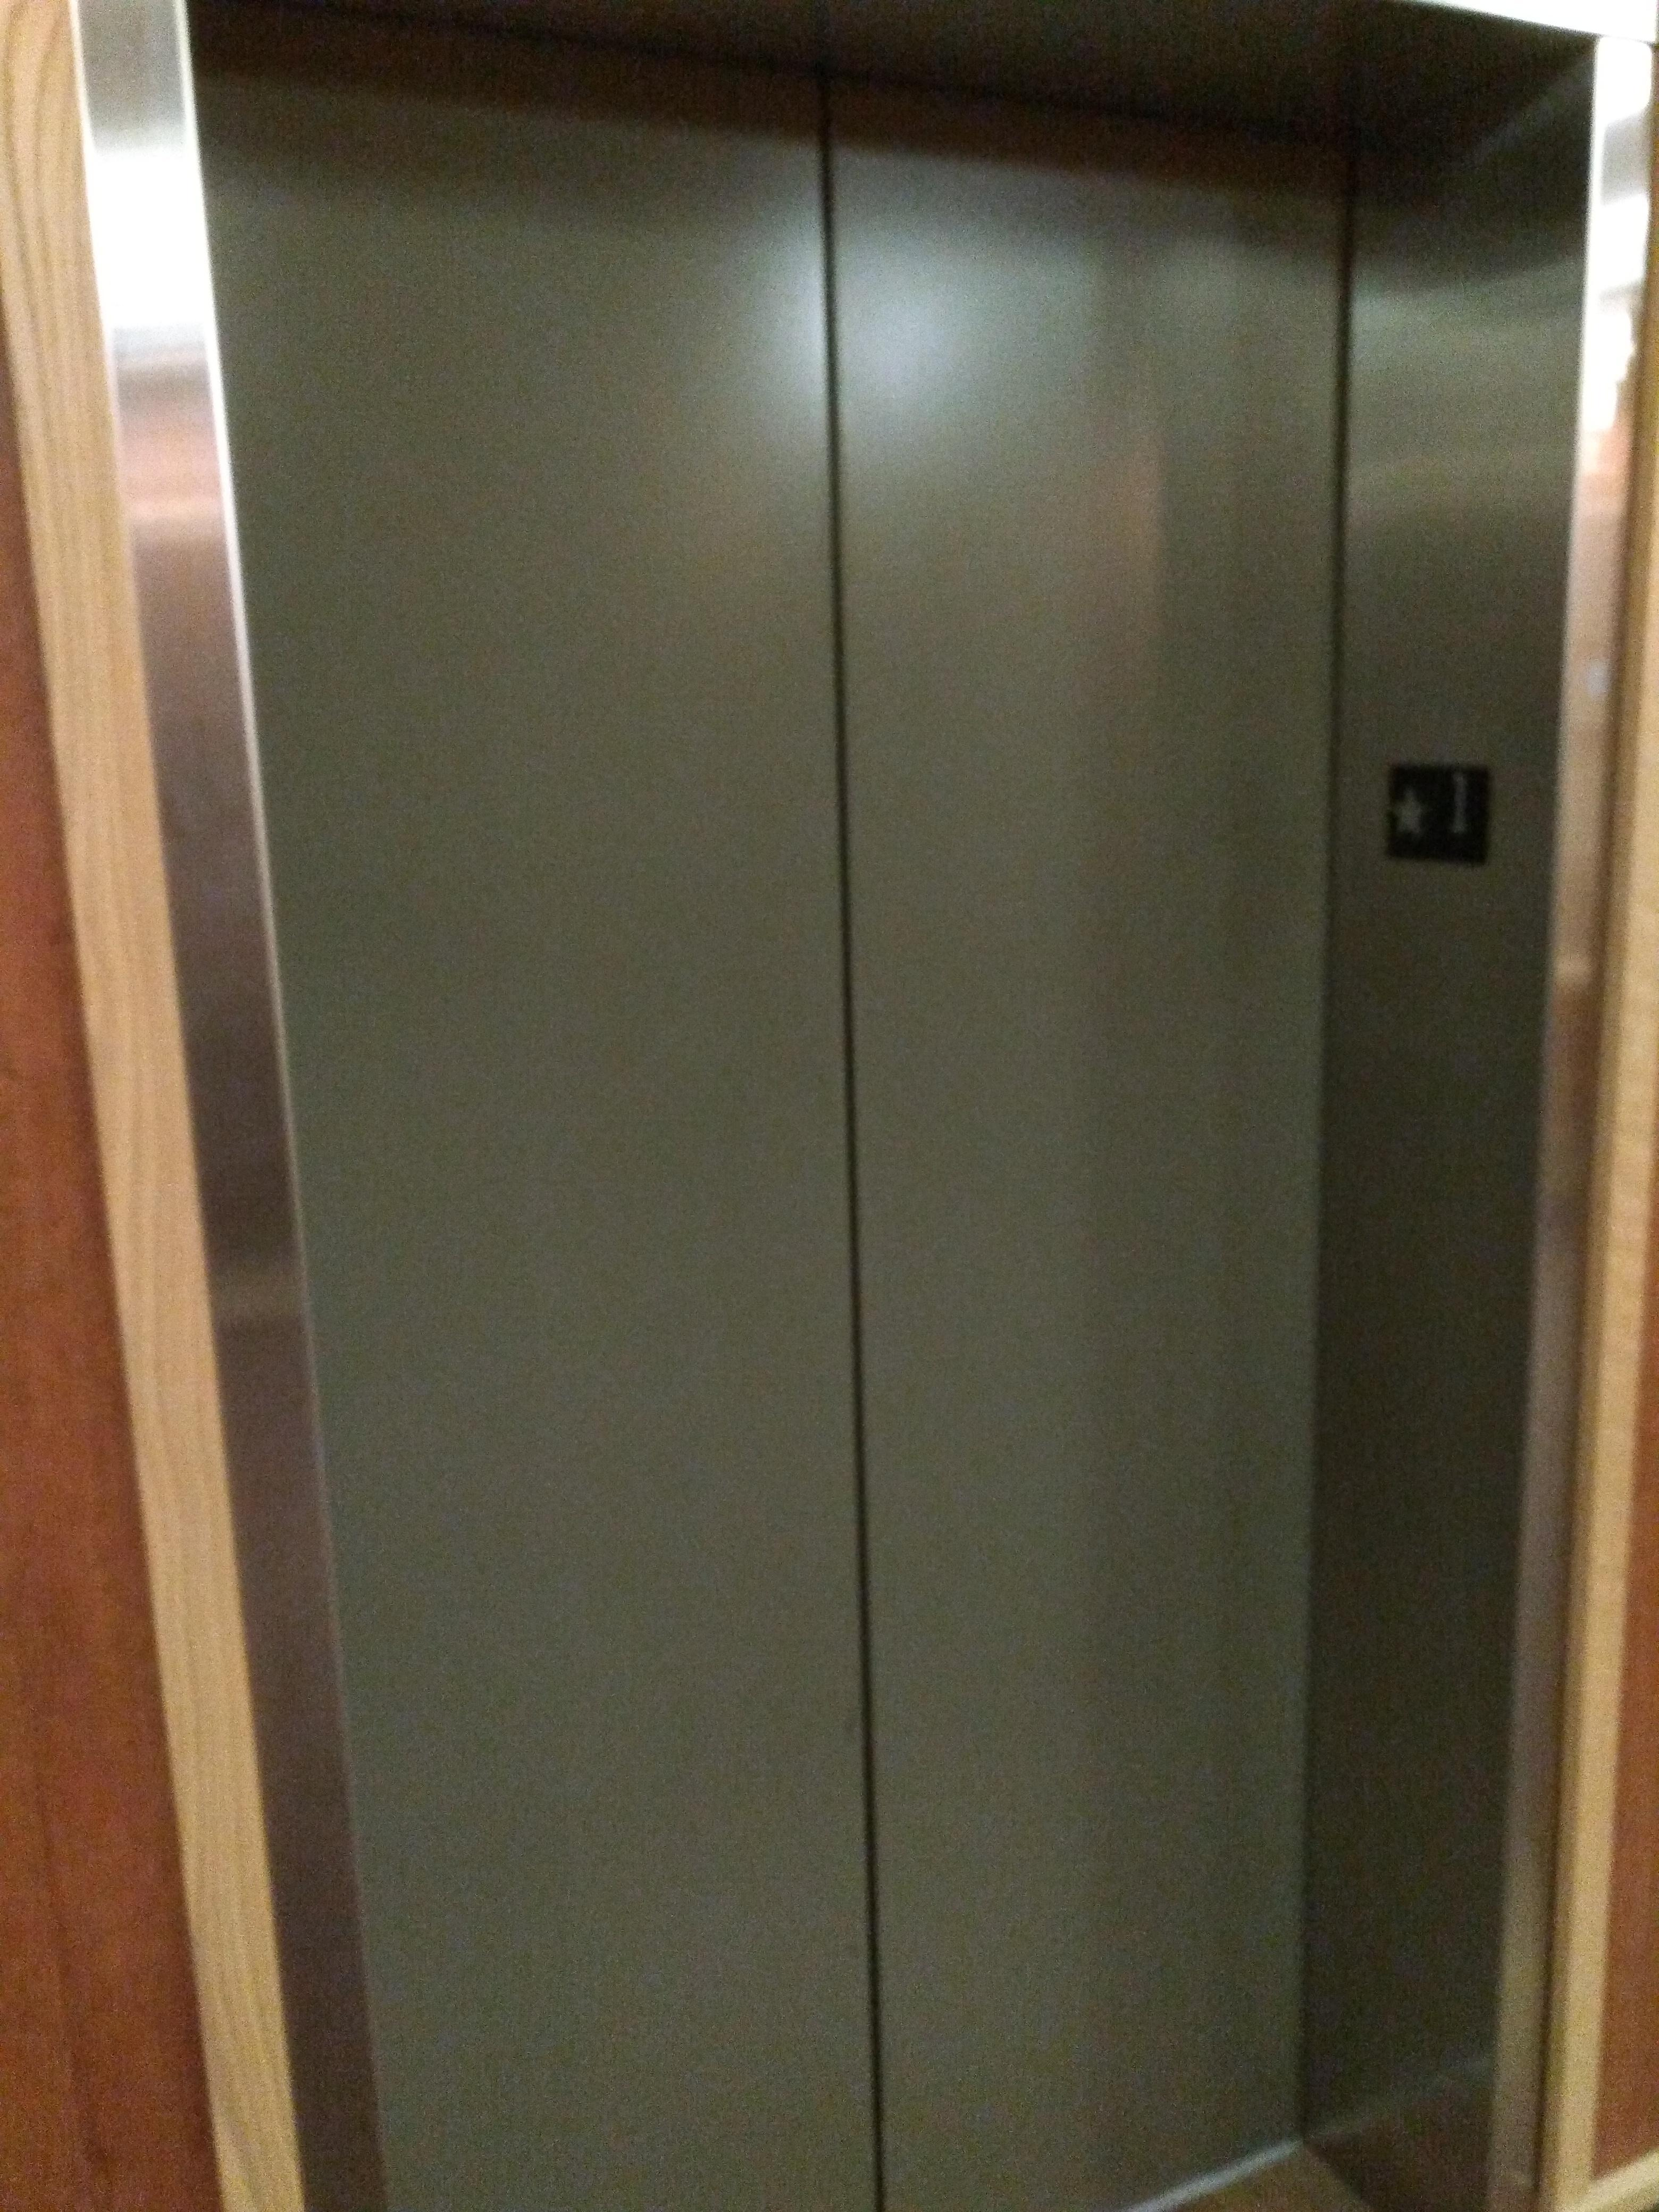door: (155, 7, 1542, 2184)
